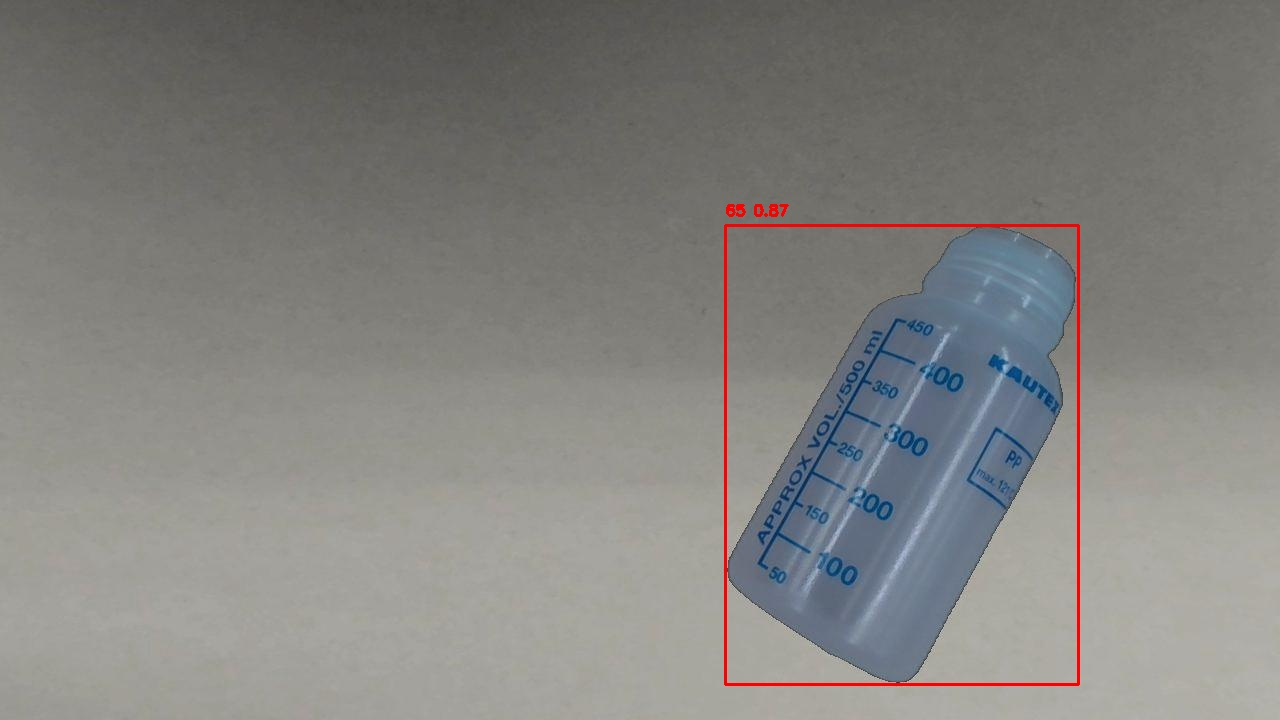cup: (725, 225, 1078, 684)
